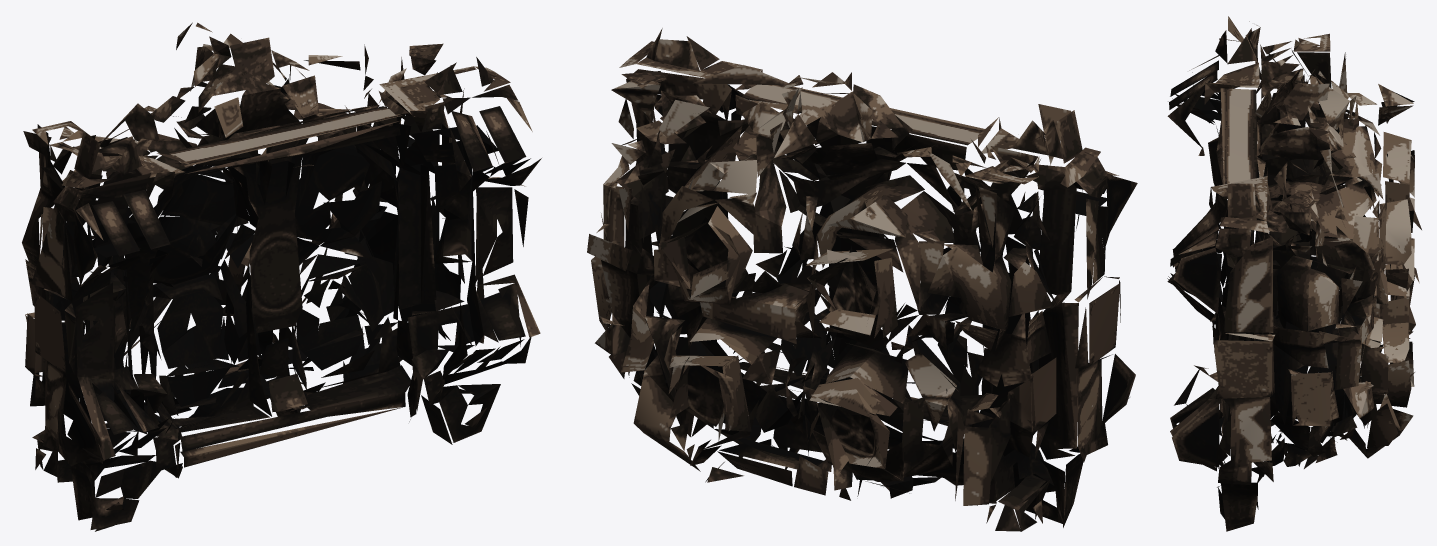
The model's file is mo_overclock.glb.
3 views of the same model, side by side, from view 1: azimuth 30°, elevation 25°; view 2: azimuth 150°, elevation 25°; view 3: azimuth 270°, elevation 25° (orthographic). The views are drawn at different scales.
Parts seen in each view (by area): view 1: mo_overclock; view 2: mo_overclock; view 3: mo_overclock.
Part boxes in pixels (bbox=[...]): mo_overclock: bbox=[22, 22, 541, 531]; mo_overclock: bbox=[587, 28, 1137, 531]; mo_overclock: bbox=[1167, 16, 1421, 531].
Bounding box in the file's own units: 0.1975 × 0.1696 × 0.1034.
Materials: 1 (1 with a texture image).
